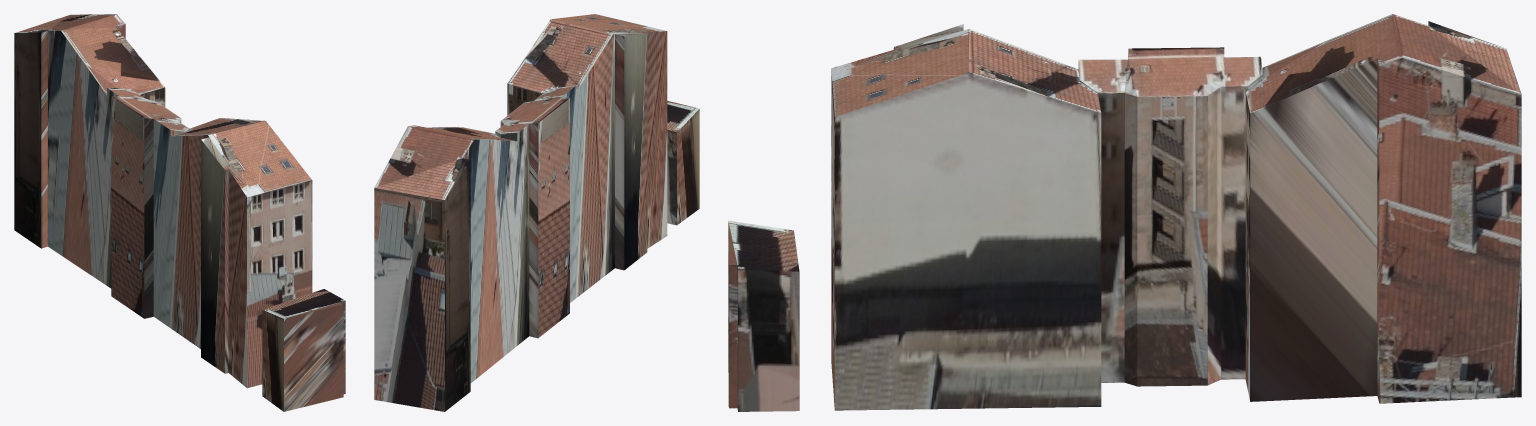
3 views of the same model, side by side, from view 1: azimuth 30°, elevation 25°; view 2: azimuth 150°, elevation 25°; view 3: azimuth 270°, elevation 25° (orthographic). The views are drawn at different scales.
Visible parts, largest first — view 1: Z_UP; view 2: Z_UP; view 3: Z_UP.
Part boxes in pixels (bbox=[...]): Z_UP: bbox=[14, 14, 345, 411]; Z_UP: bbox=[374, 14, 699, 411]; Z_UP: bbox=[728, 14, 1521, 411].
Bounding box in the file's own units: 8.57 × 22.77 × 47.49.
2 materials, 1 textured.
